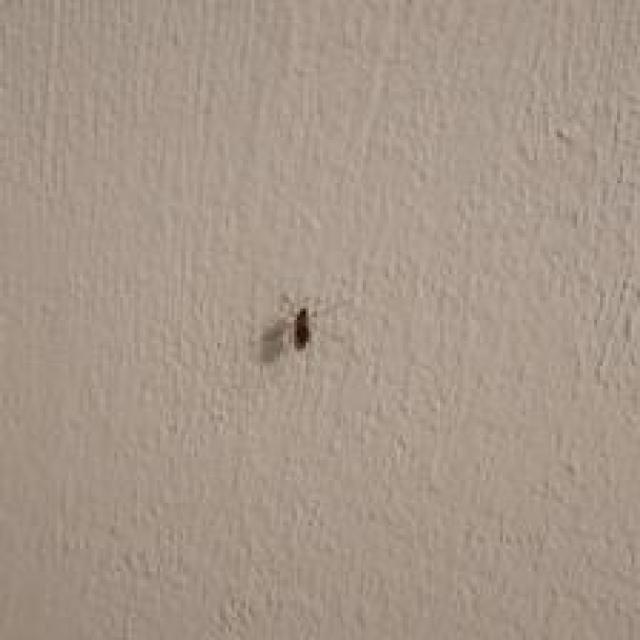Culex: (292, 306, 312, 351)
